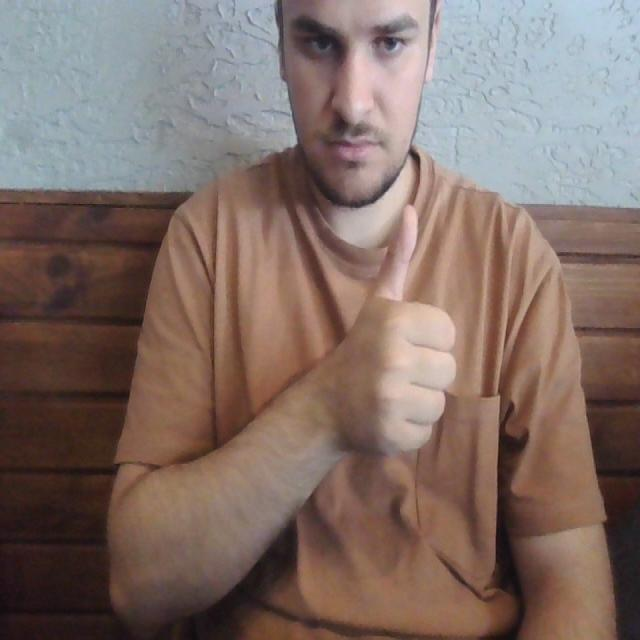Tamam: (328, 192, 459, 464)
